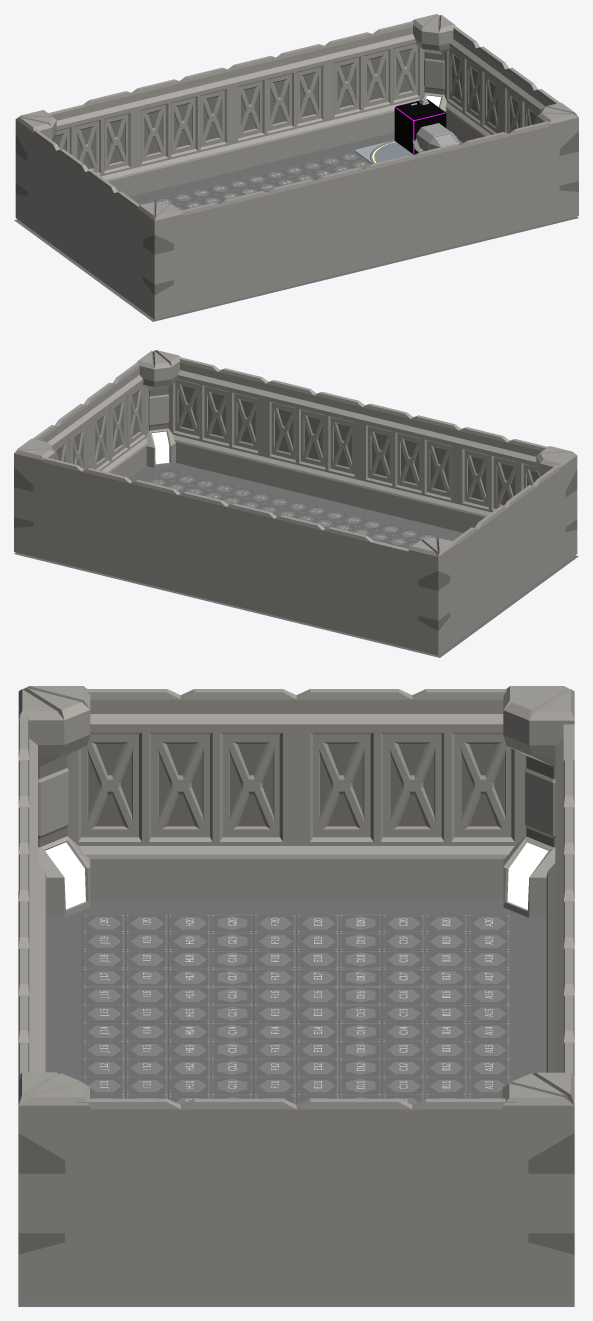
Rendered from Parking_GameBoard_000.fbx.
3 renders of one model, top to bottom at view 1: azimuth 30°, elevation 25°; view 2: azimuth 150°, elevation 25°; view 3: azimuth 270°, elevation 25°, orthographic. The views are drawn at different scales.
Parts seen in each view (by area): view 1: Game_Border, Game_Floor, Ship_2x2, Ship_2x4, Rotation_Platform; view 2: Game_Border, Game_Floor; view 3: Game_Border, Game_Floor, Map_Coordinates, Tile_A_19, Tile_B_19, Tile_F_19, Tile_J_19, Tile_I_16, Tile_B_18, Tile_I_19, Tile_B_20, Tile_I_14 (+89 smaller).
Part boxes in pixels (x1,y1,x2,y2): Game_Border: (15,14,578,319); Game_Floor: (14,132,578,321); Ship_2x2: (394,99,446,154); Ship_2x4: (411,103,459,151); Rotation_Platform: (370,140,415,163); Game_Border: (14,350,577,655); Game_Floor: (14,463,578,657); Game_Border: (18,686,574,1302); Game_Floor: (18,891,574,1306); Map_Coordinates: (100,918,493,1102); Tile_A_19: (467,932,510,950); Tile_B_19: (424,932,467,950); Tile_F_19: (253,932,296,950); Tile_J_19: (82,932,125,950); Tile_I_16: (125,986,168,1004); Tile_B_18: (424,950,467,968); Tile_I_19: (125,932,168,950); Tile_B_20: (424,914,467,932); Tile_I_14: (125,1022,168,1040).
Bounding box in the file's own units: 2300 × 537 × 1300.
